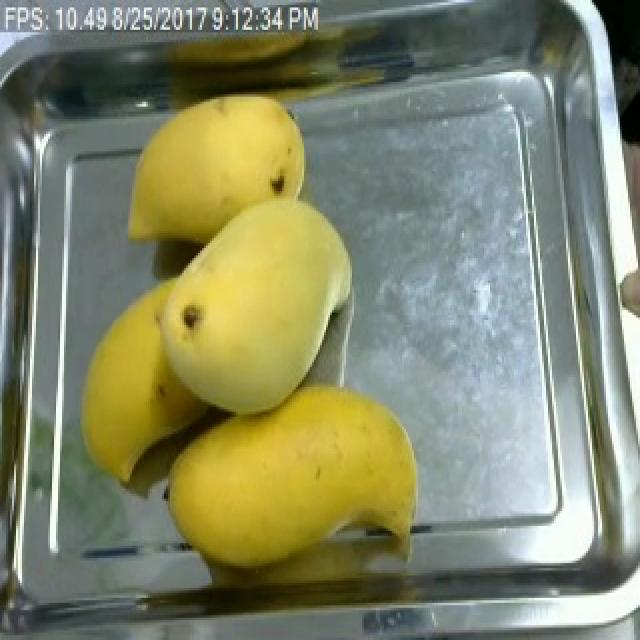fruit: (154, 370, 438, 586), (160, 176, 366, 429), (114, 82, 318, 263), (68, 253, 206, 501)
